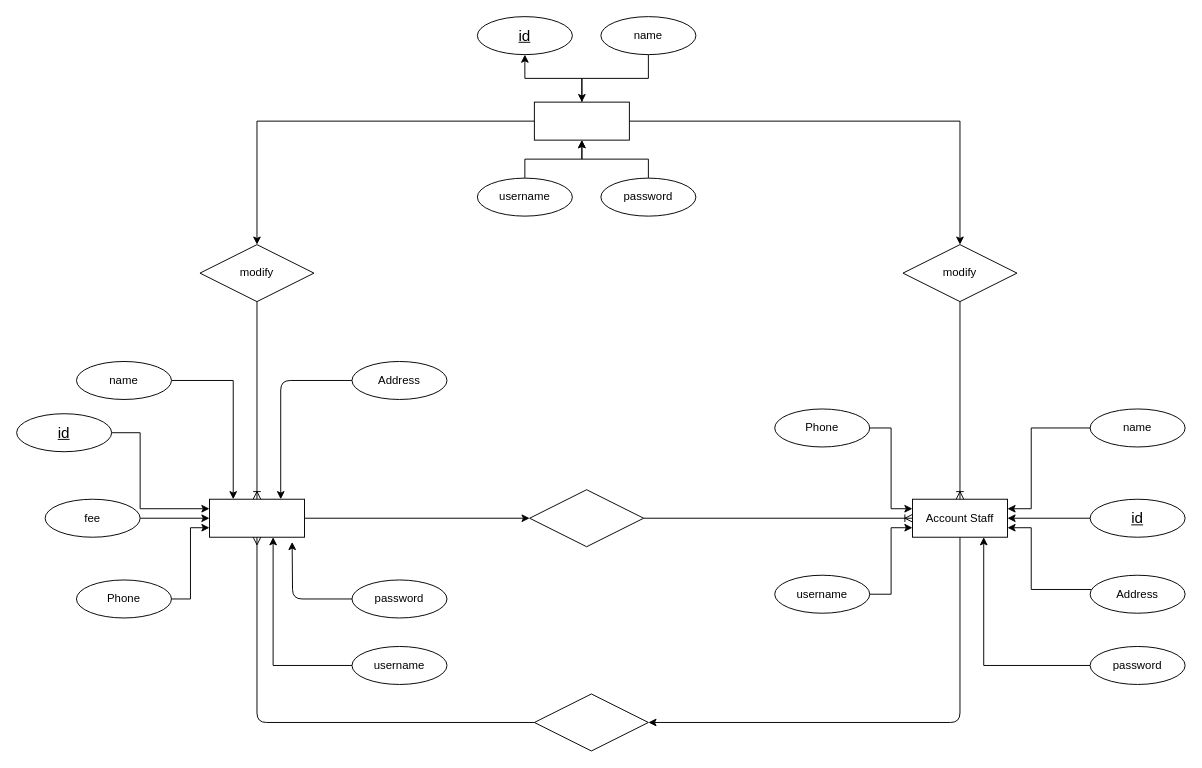
Image size: 1202x768. Some labels were removed from this diagram. Each missing label, with the centre of its shape:
"Admin" goes at point (581, 120).
"Payment" goes at point (586, 518).
"Student" goes at point (256, 517).
"update fee" goes at point (590, 722).
